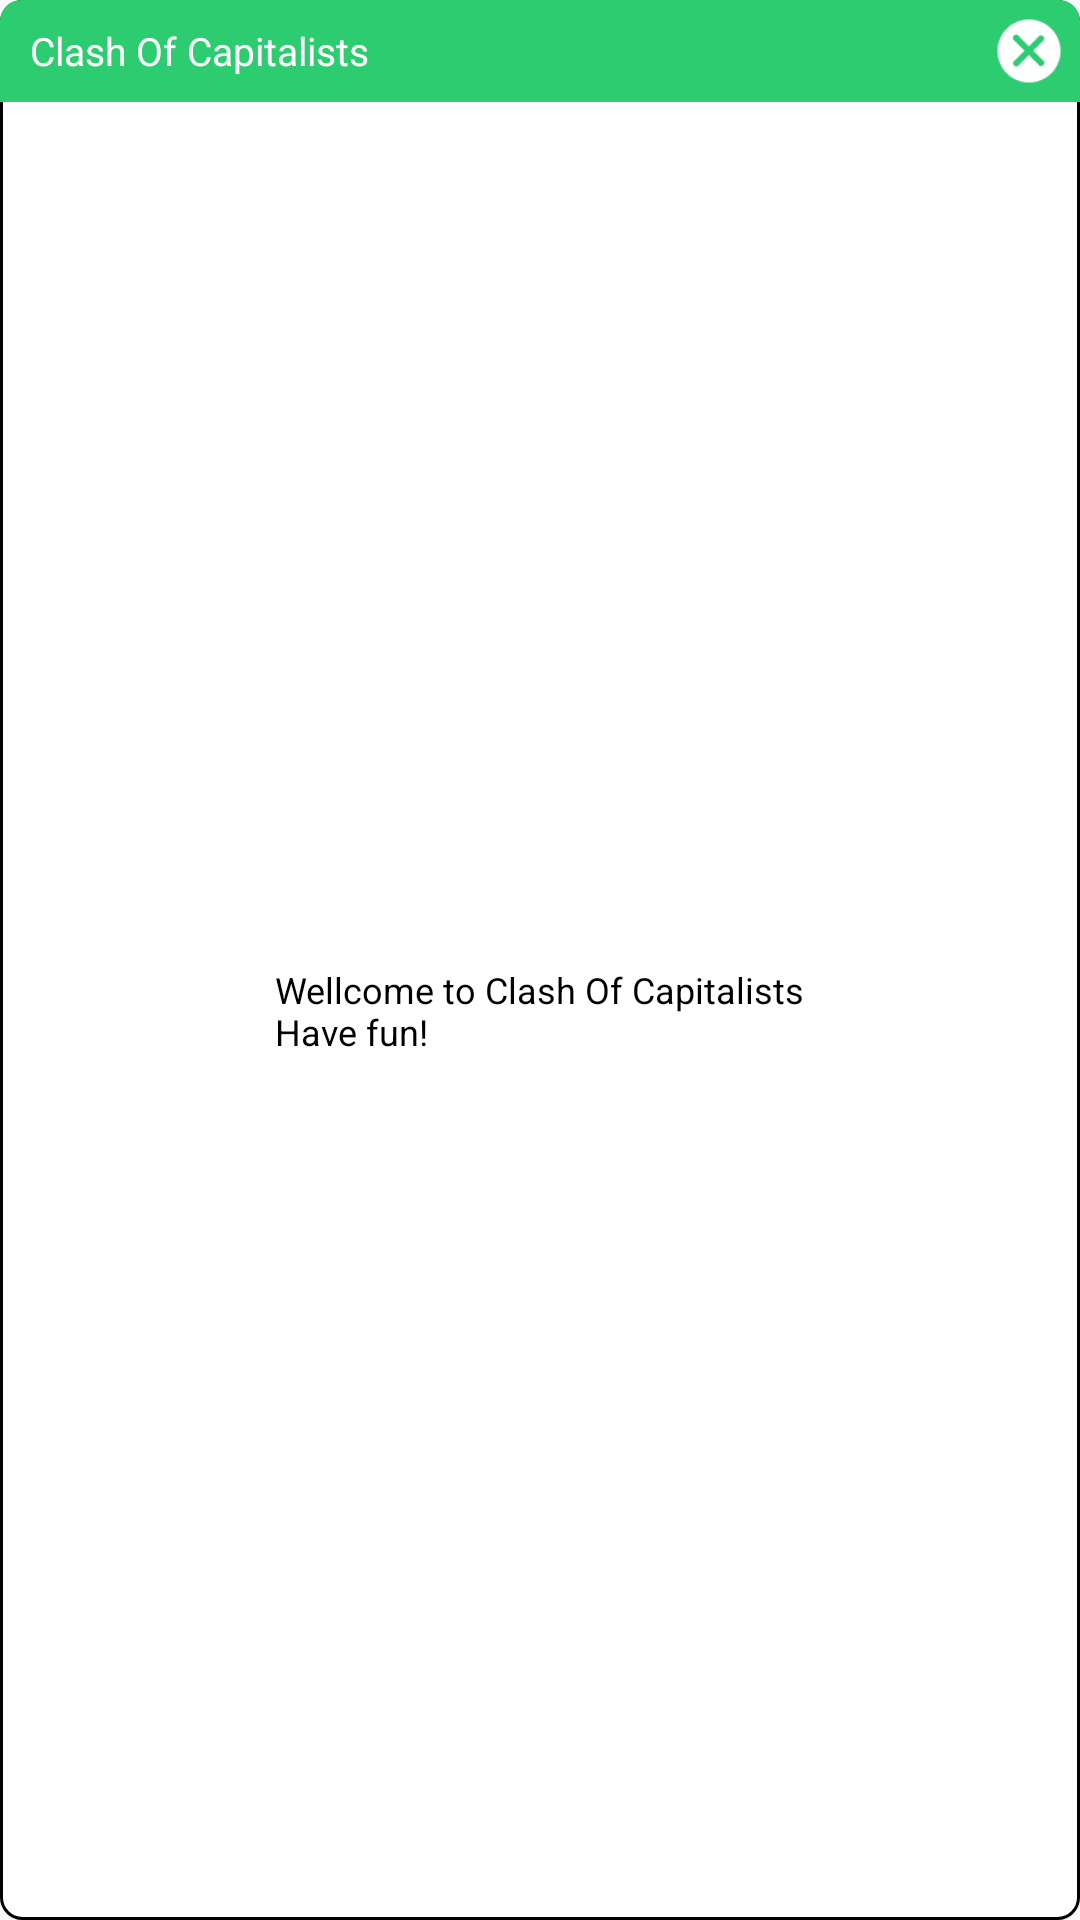

Locate icon controls on the screen. Image size 1080px×1920px, boxes as (x1, y1, x2, y2).
close: (997, 0, 1080, 83)
